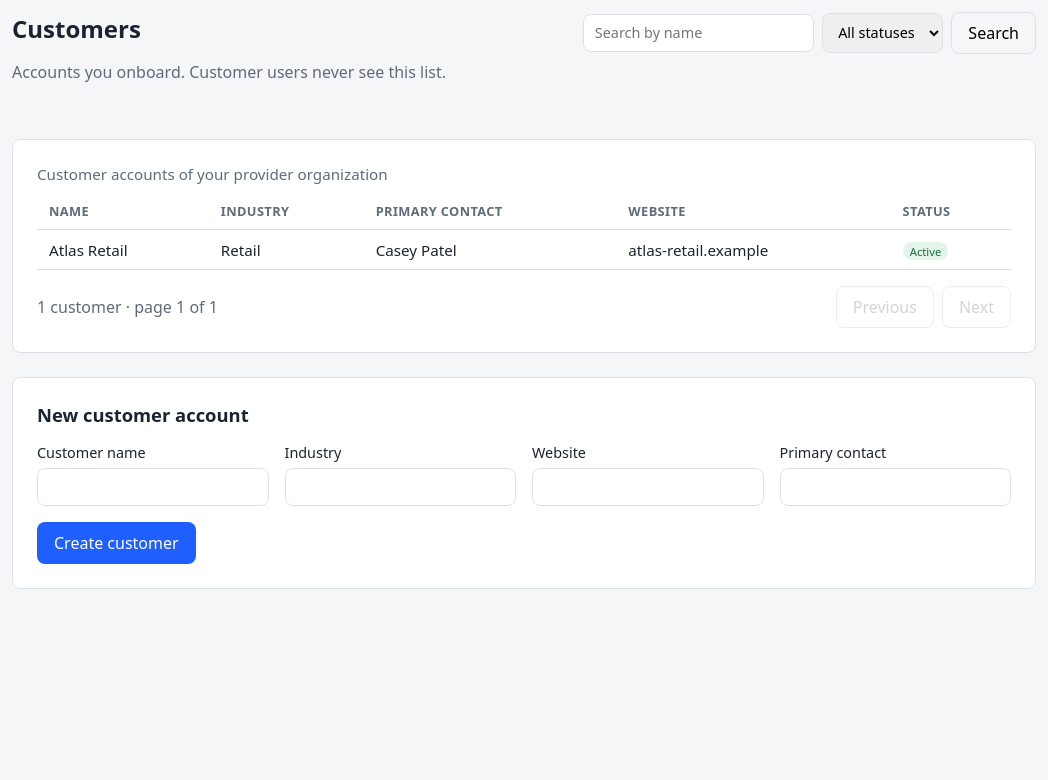
Test: CustomersPage › surfaces a duplicate-name conflict from the API
Expected: the text "Atlas Retail" is shown, [37,230,209,270]
Type "Atlas Retail" into the field labelled "Customer name".
click(153, 487); type("Atlas Retail")  # box [37,468,268,506]
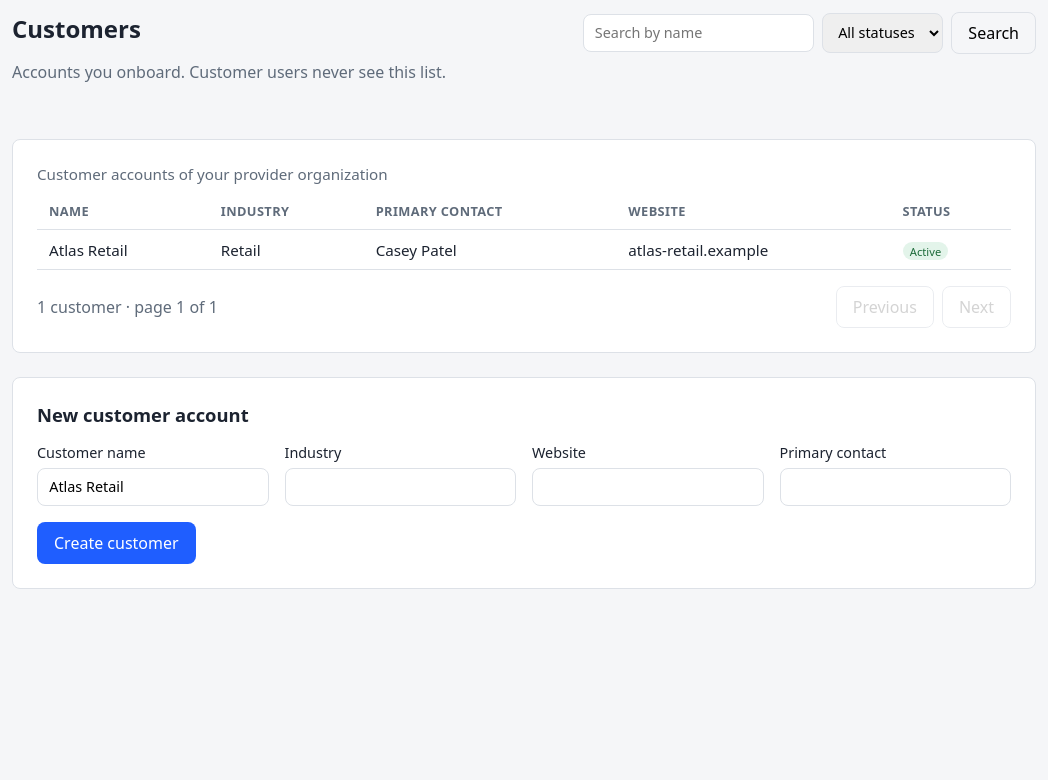
Click the button "Create customer".
click(116, 543)  # box [37,522,196,564]
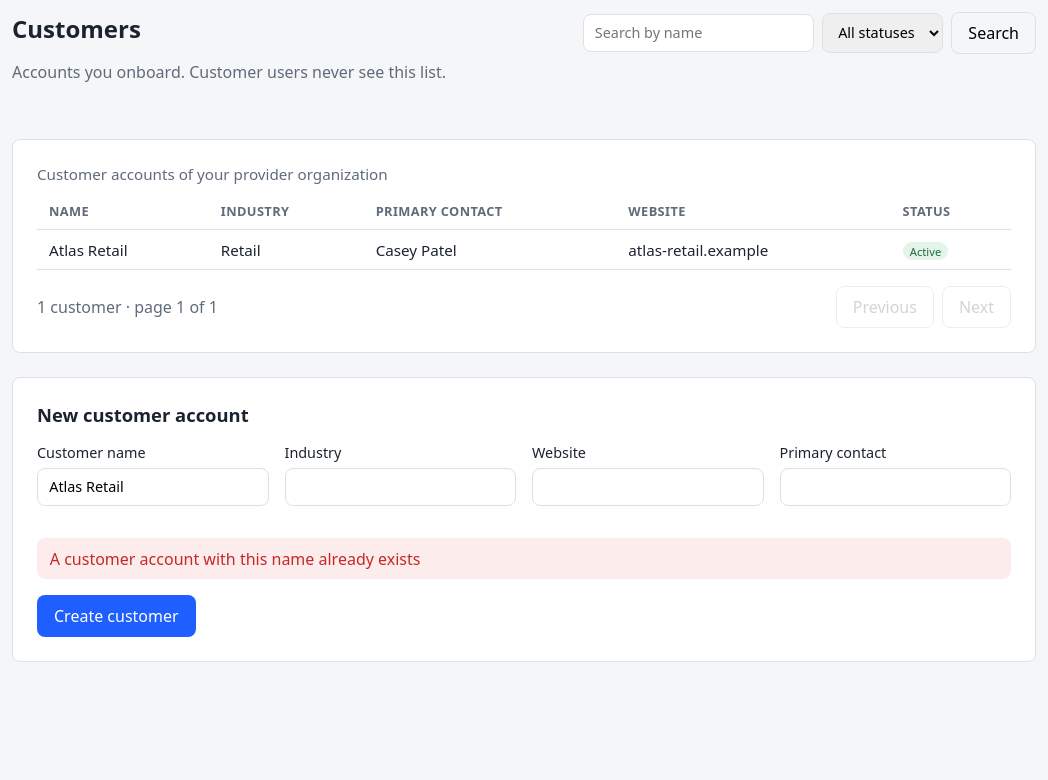
Now the message shows "already exists", box [50,548,420,570]
